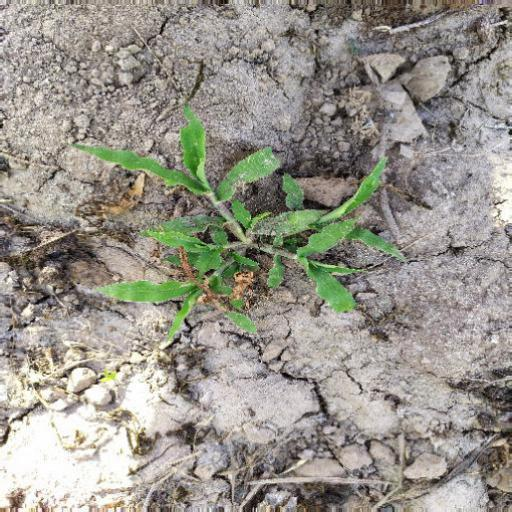weed: (70, 118, 415, 368)
